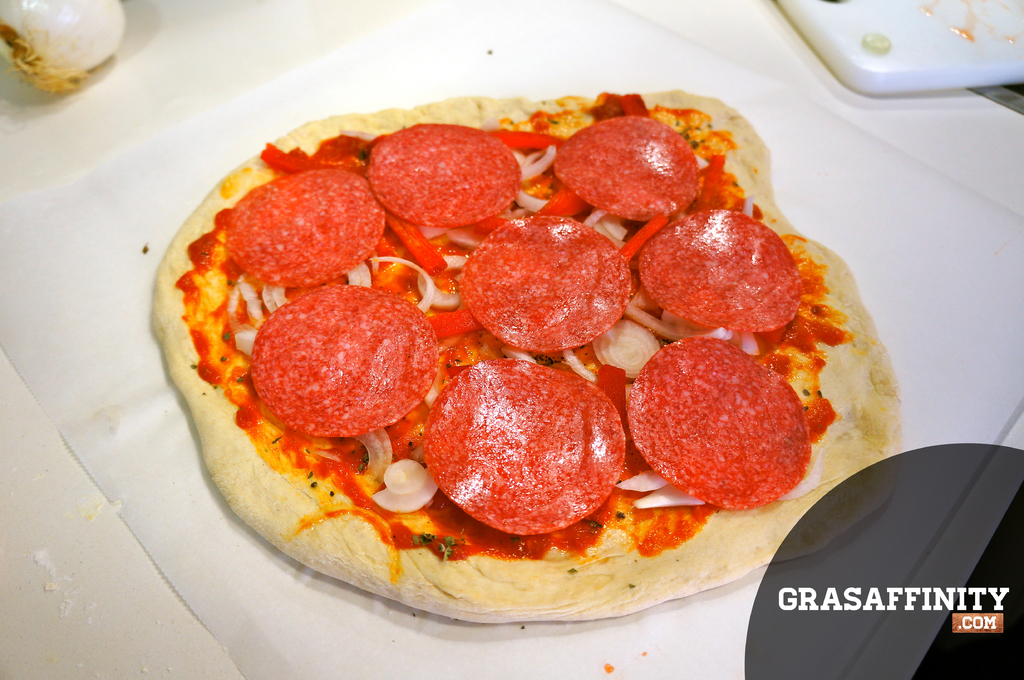Pizza: (151, 73, 905, 606)
